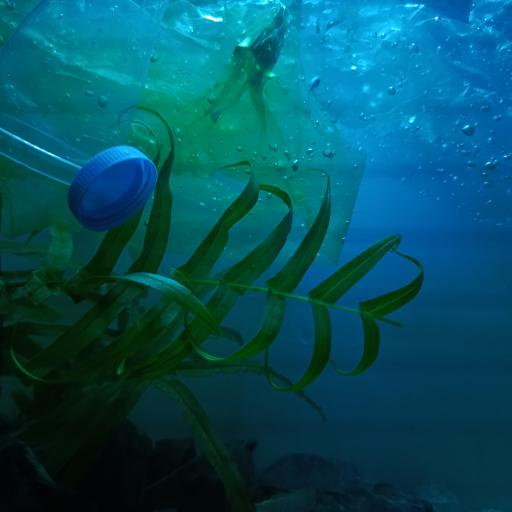bottle_cap: (67, 145, 158, 233)
plastic_bag: (0, 2, 369, 266), (278, 0, 512, 228)
plastic_cup: (0, 0, 165, 184)
